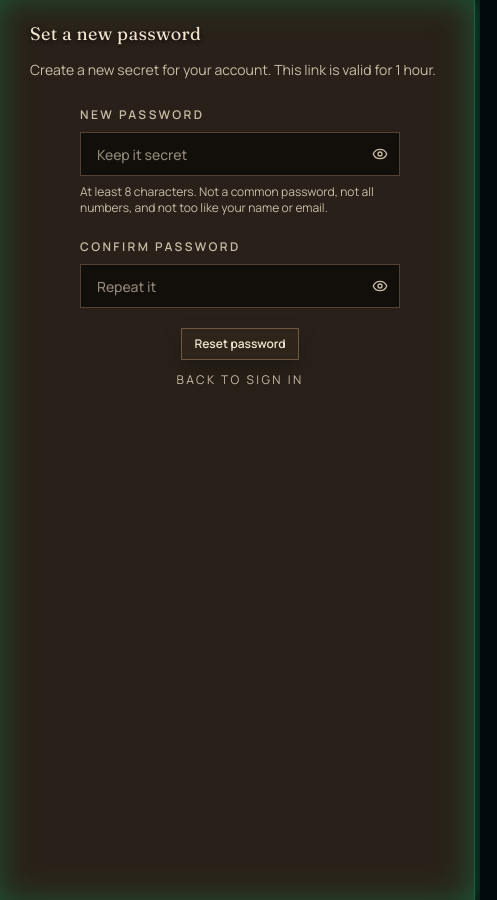
Test: ResetPassword (AUTH-TEST-27) › shows a refused link's reason and keeps the form for another try
In the password field labelled "New password": {"x": 240, "y": 154} [80,132,400,176], type "wyrdstone-42"
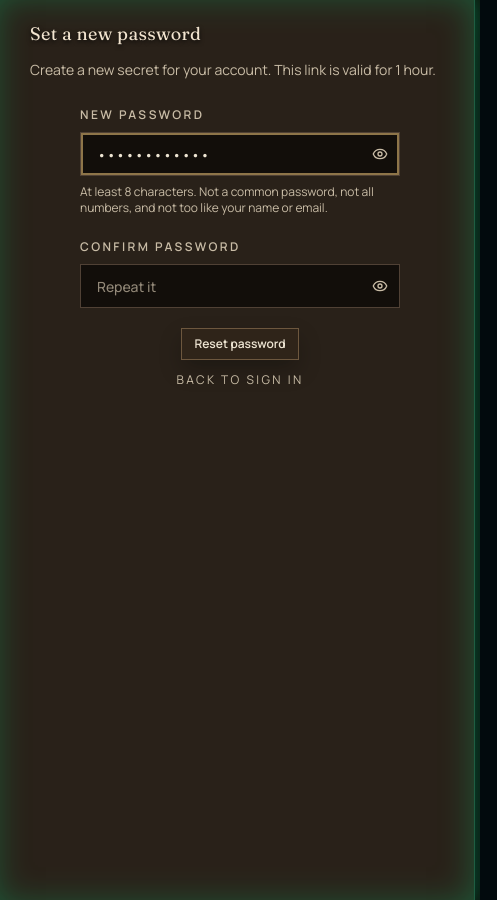
In the password field labelled "Confirm password": {"x": 240, "y": 286} [80,264,400,308], type "wyrdstone-42"
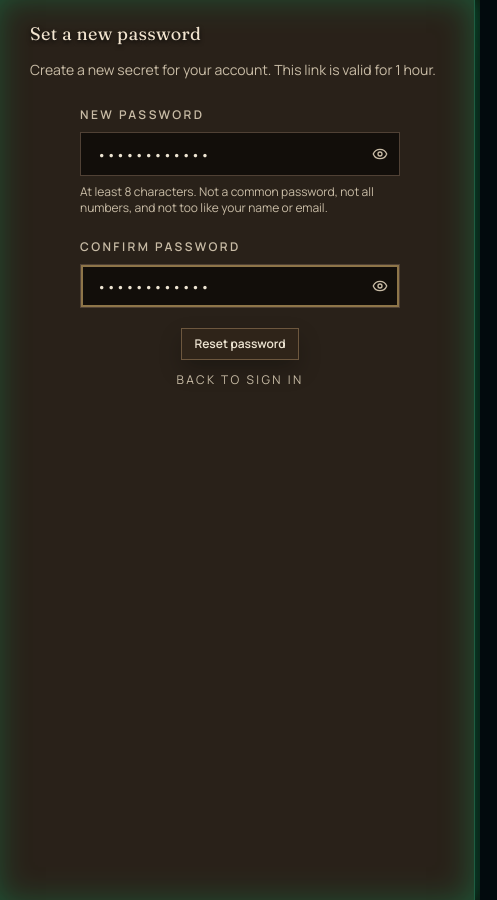
Click the button "Reset password": {"x": 240, "y": 344} [181,328,299,360]
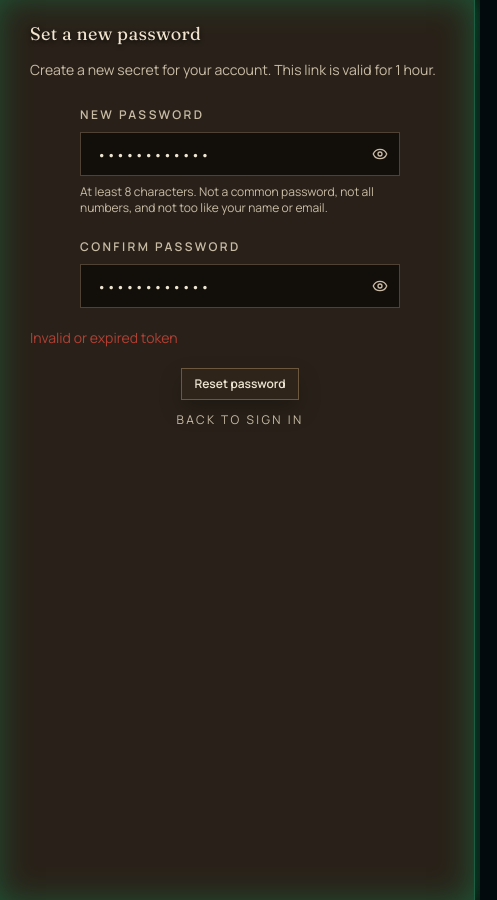
Check: the button "Reset password" is enabled, box [181,368,299,400]
Check: the message reads "Invalid or expired token", box [30,328,178,347]
